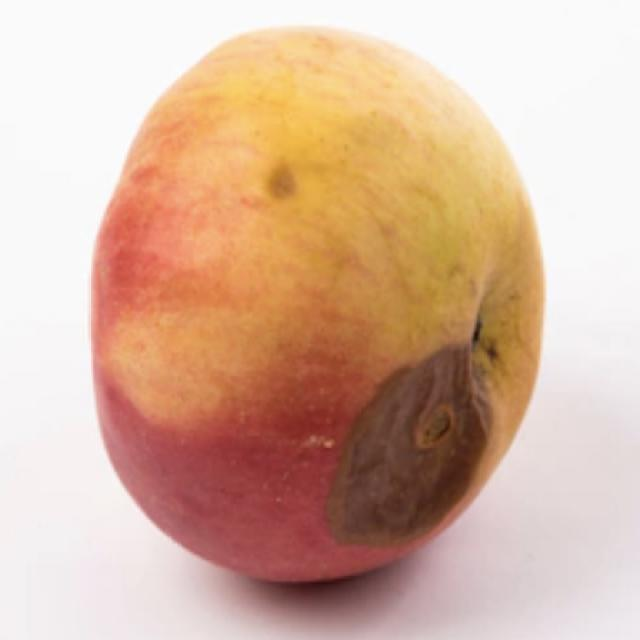Rotten: (107, 35, 568, 568)
